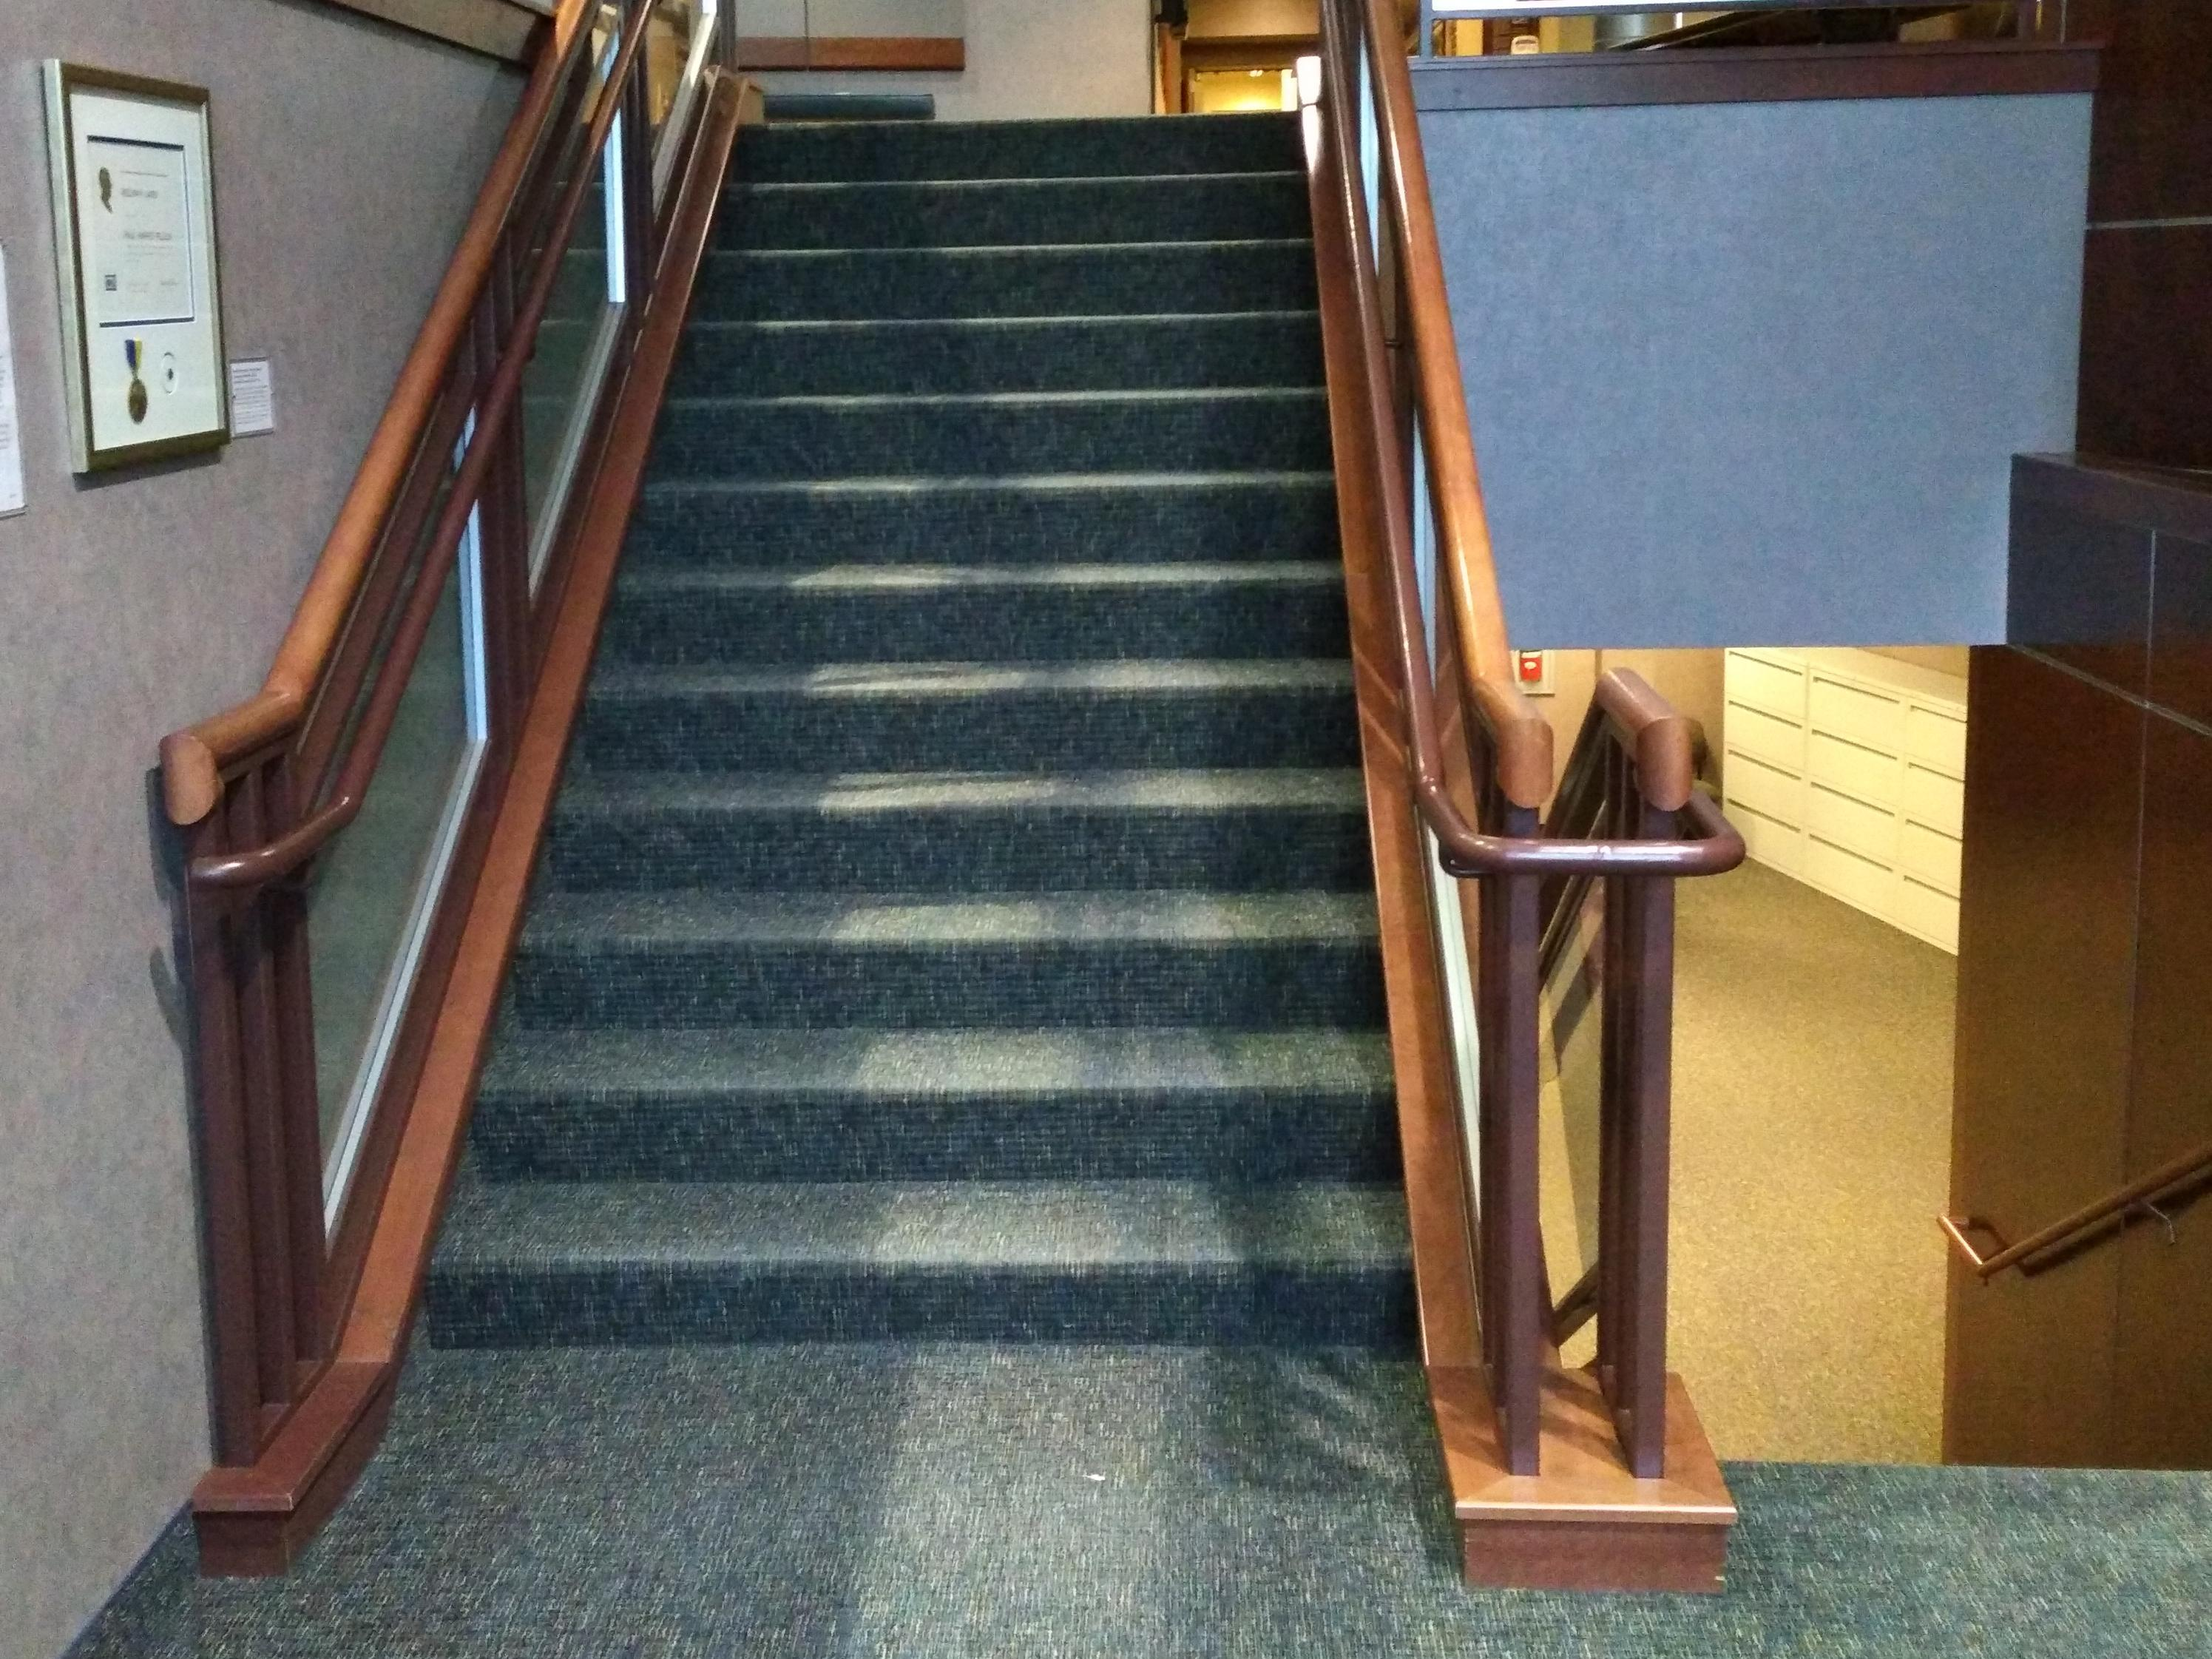stairs_up: (437, 108, 1413, 1368)
